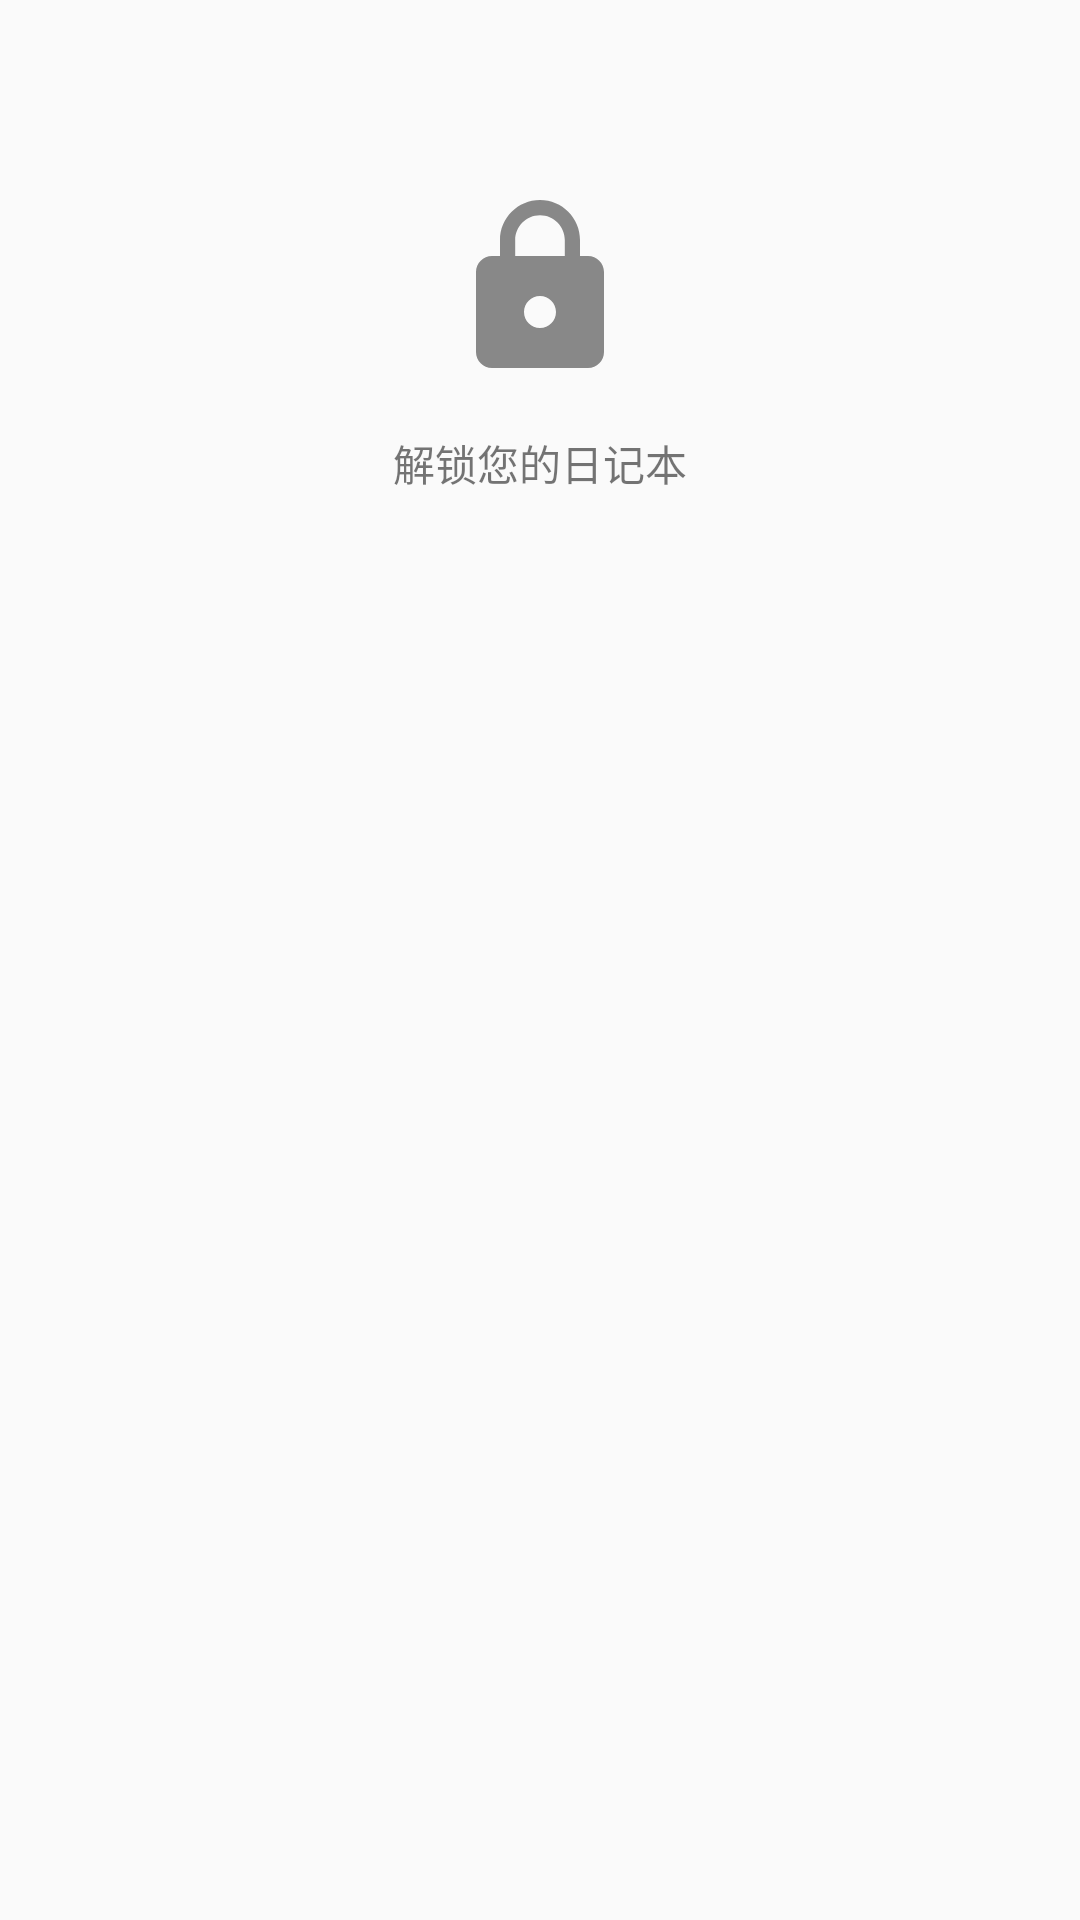

Icons on this 1080px x 1920px Android screen, each with its box as (x1, y1, x2, y2):
lock: (476, 200, 604, 368)
